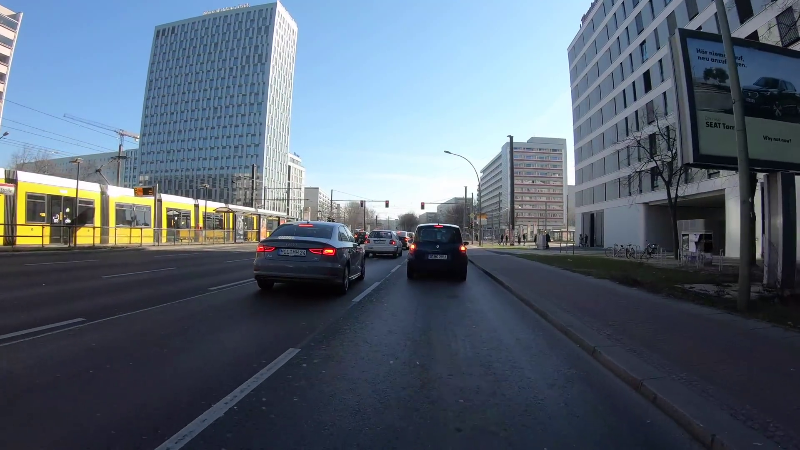Plate: (273, 246, 308, 257), (423, 252, 447, 260), (373, 238, 387, 244)
